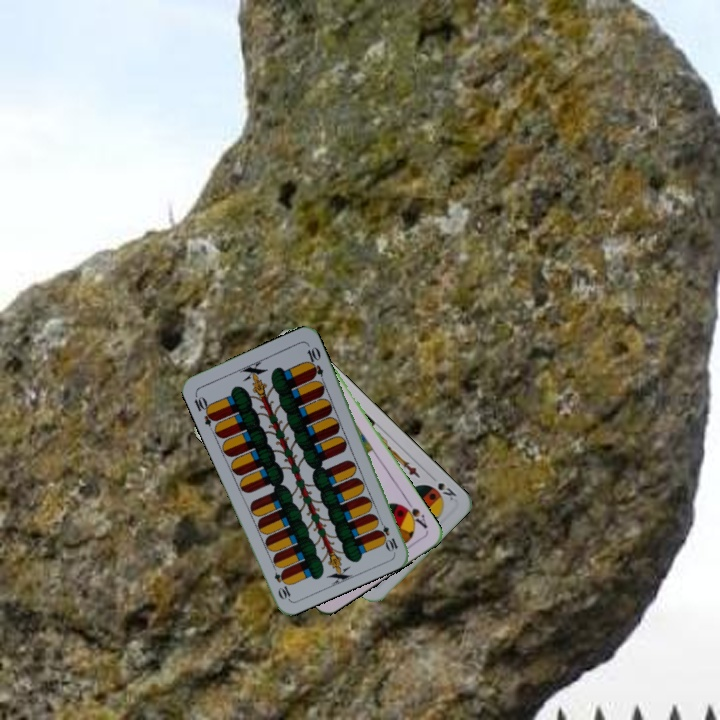E10: (190, 390, 219, 429), (374, 515, 400, 554)
SA: (398, 497, 430, 531)
SK: (434, 479, 459, 503)
